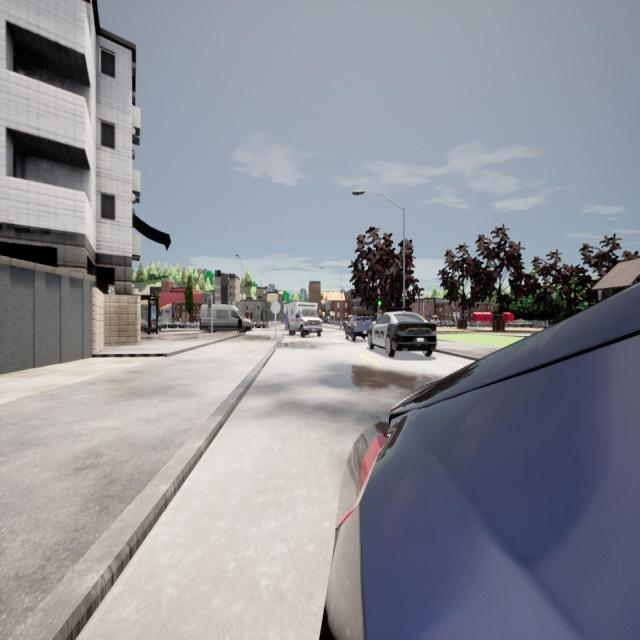Traffic_Signs: (270, 301, 282, 314)
Vehicle: (321, 269, 640, 640), (368, 310, 438, 357), (196, 304, 252, 333), (284, 302, 324, 339), (346, 314, 374, 342)
traffic_light: (377, 292, 382, 306)
